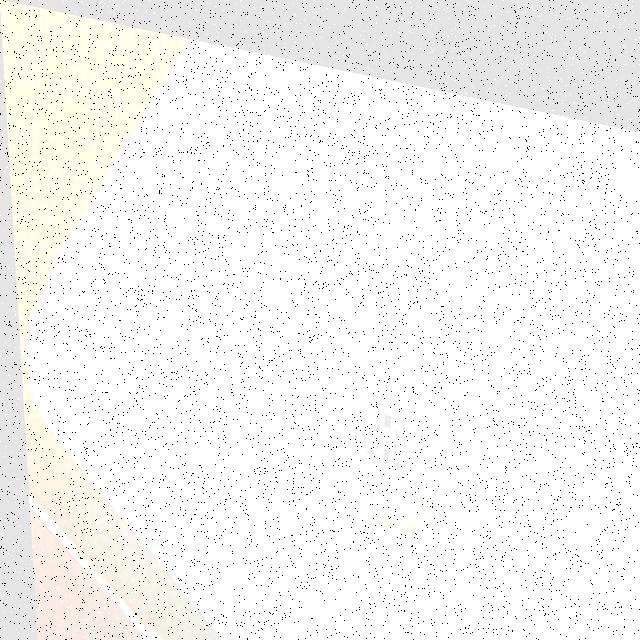adapter: (339, 374, 423, 511)
